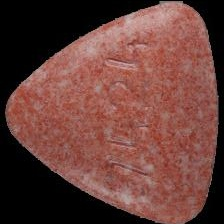54868-6363: (0, 0, 224, 224)
